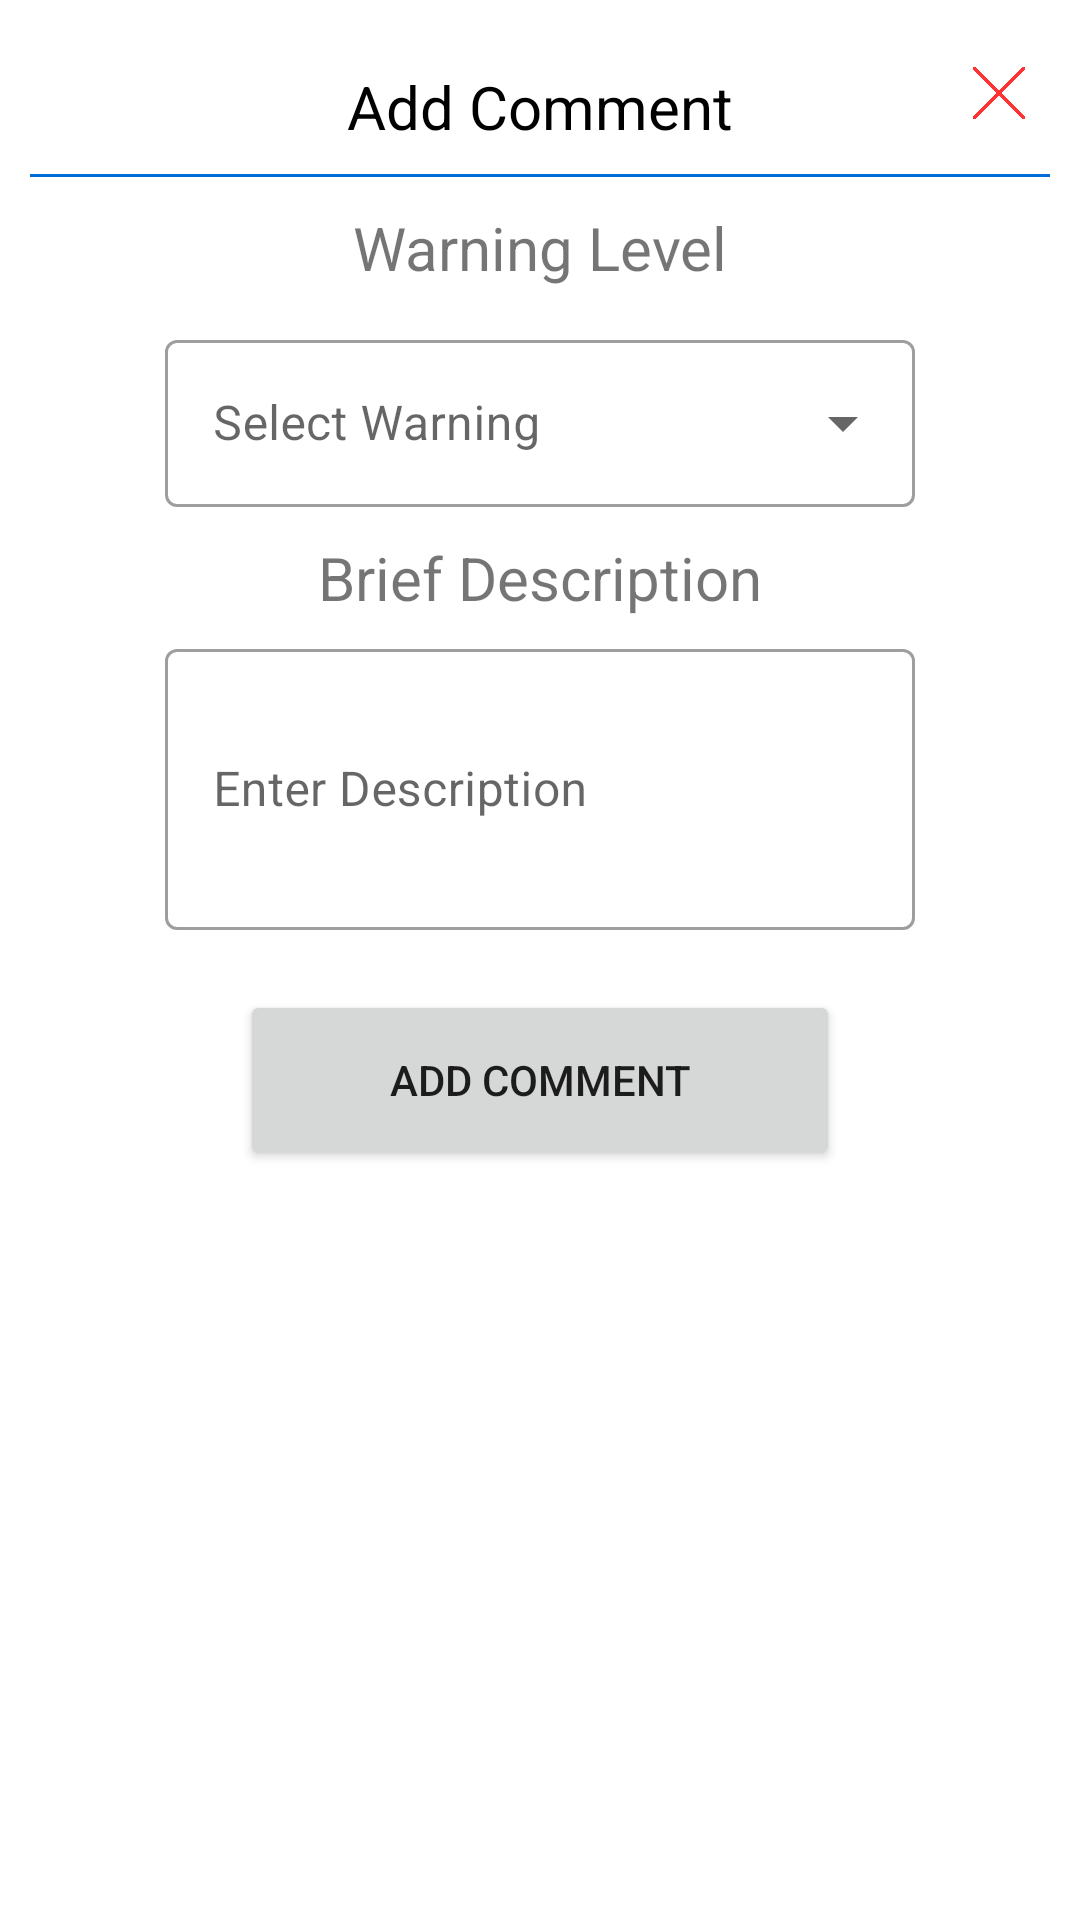

Where to tap for icons on this 1080×1920 app screen, as [x,y]:
cancel: [999,93]
